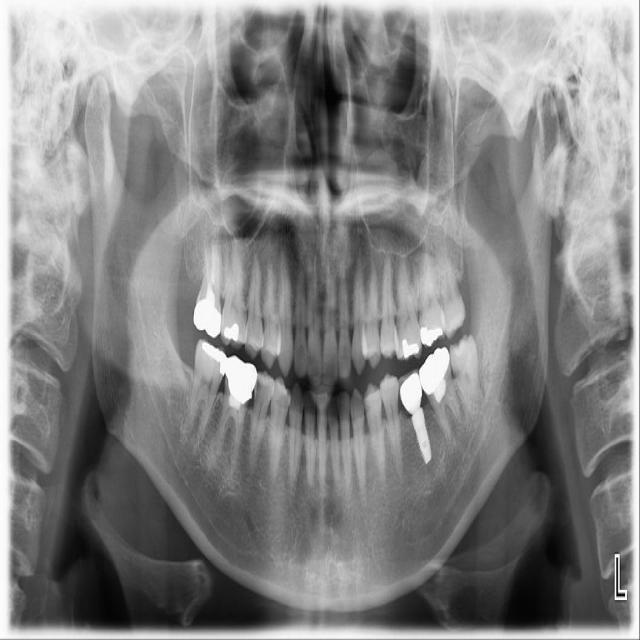52: (404, 341, 463, 405), (185, 336, 234, 387), (216, 354, 260, 410), (391, 321, 425, 364), (192, 300, 224, 339), (417, 312, 448, 349), (220, 310, 248, 350), (452, 366, 463, 384)
73: (195, 227, 222, 313), (625, 616, 631, 622)
BioHorizons Implant: (414, 228, 447, 349)
BioLife Implant: (440, 246, 466, 339)
Biomet 3i Implant: (446, 332, 488, 429)
Blue Sky Bio Implant: (414, 345, 466, 448)
Caries: (192, 226, 228, 338)
Implant: (183, 337, 230, 447)
